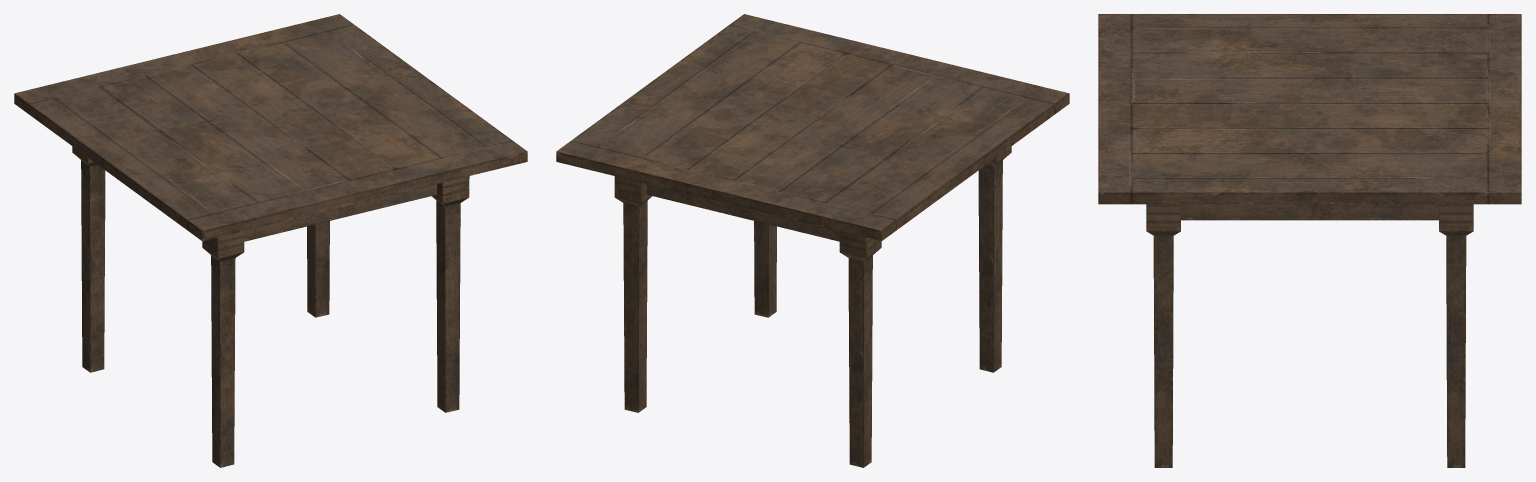
Rendered from SM_table_01.fbx.
3 views of the same model, side by side, from view 1: azimuth 30°, elevation 25°; view 2: azimuth 150°, elevation 25°; view 3: azimuth 270°, elevation 25° (orthographic). The views are drawn at different scales.
Parts seen in each view (by area): view 1: SM_table_01_LOD0; view 2: SM_table_01_LOD0; view 3: SM_table_01_LOD0.
Part boxes in pixels (box(x1,y1,x2,y2)): SM_table_01_LOD0: box(14, 14, 527, 467); SM_table_01_LOD0: box(556, 14, 1069, 467); SM_table_01_LOD0: box(1098, 14, 1521, 467).
Size of the model in its own units: 100 by 100 by 78.
Materials: 1 (1 with a texture image).
